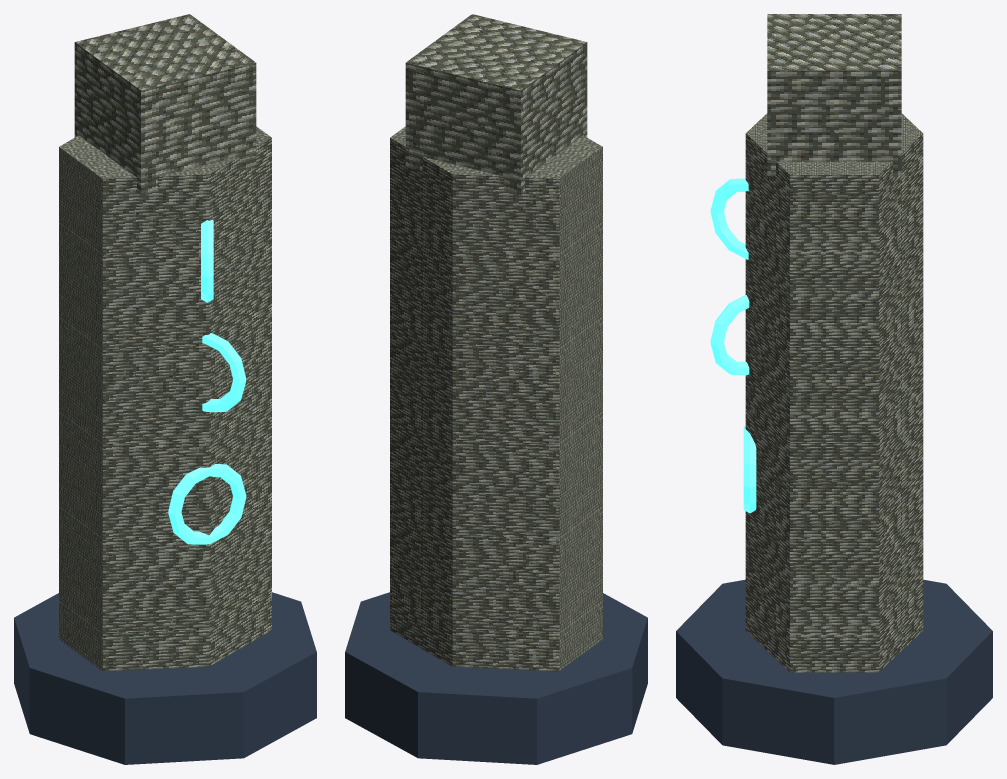
The model's file is menhir.glb.
3 renders of one model, left to right at view 1: azimuth 30°, elevation 25°; view 2: azimuth 150°, elevation 25°; view 3: azimuth 270°, elevation 25°, orthographic.
Visible parts, largest first — view 1: Cylinder.001, Cylinder, Cylinder.002, Torus, Torus.001, Torus.002; view 2: Cylinder.001, Cylinder, Cylinder.002; view 3: Cylinder.001, Cylinder, Cylinder.002, Torus.001, Torus.002, Torus.
Boxes of the visible parts, bbox=[...] form: Cylinder.001: bbox=[59, 126, 271, 671]; Cylinder: bbox=[14, 592, 316, 764]; Cylinder.002: bbox=[74, 14, 256, 194]; Torus: bbox=[168, 464, 246, 544]; Torus.001: bbox=[202, 333, 246, 412]; Torus.002: bbox=[201, 220, 213, 302]; Cylinder.001: bbox=[390, 126, 602, 671]; Cylinder: bbox=[345, 592, 647, 764]; Cylinder.002: bbox=[405, 14, 587, 194]; Cylinder.001: bbox=[745, 113, 923, 672]; Cylinder: bbox=[676, 579, 992, 764]; Cylinder.002: bbox=[767, 14, 901, 175]; Torus.001: bbox=[710, 295, 749, 375]; Torus.002: bbox=[710, 178, 748, 259]; Torus: bbox=[743, 426, 756, 513].
Size of the model in its own units: 1.5 by 3.43 by 1.5.
3 materials, 1 textured.
